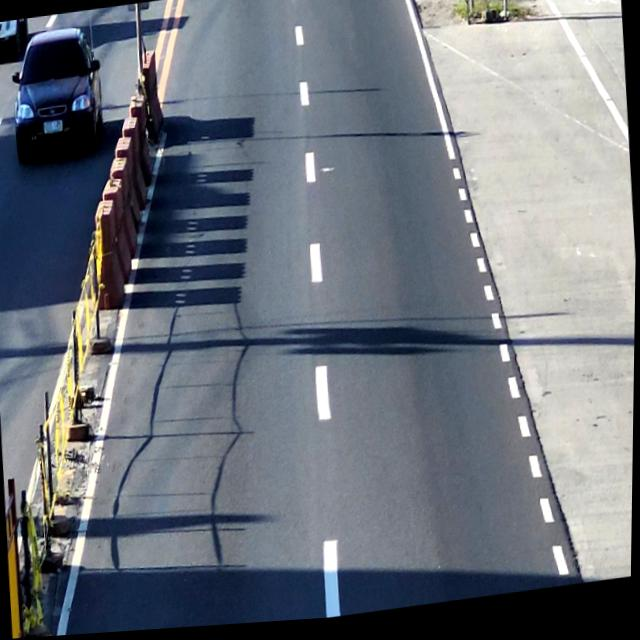License-Plate: (42, 117, 66, 139)
